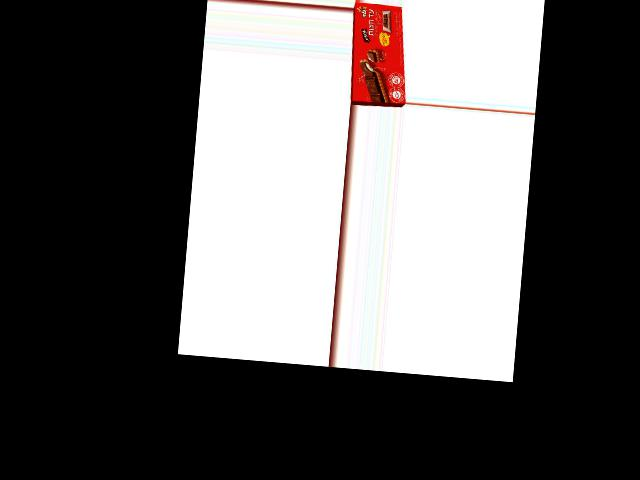chocolate: (350, 1, 407, 107)
